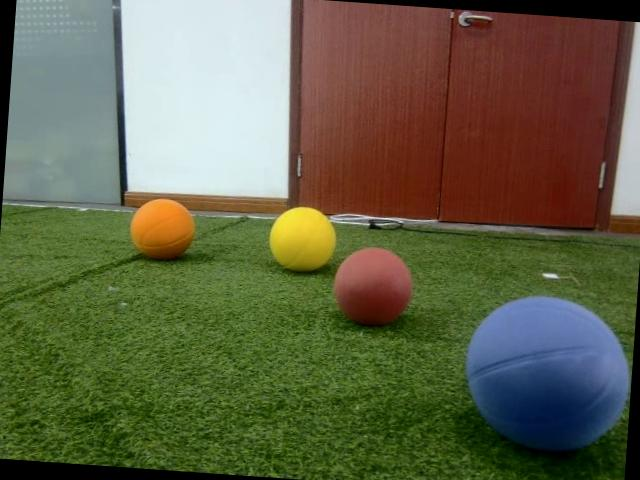blue_ball: (458, 288, 636, 460)
orange_ball: (127, 194, 197, 264)
red_ball: (329, 243, 416, 332)
yellow_ball: (266, 204, 336, 278)
